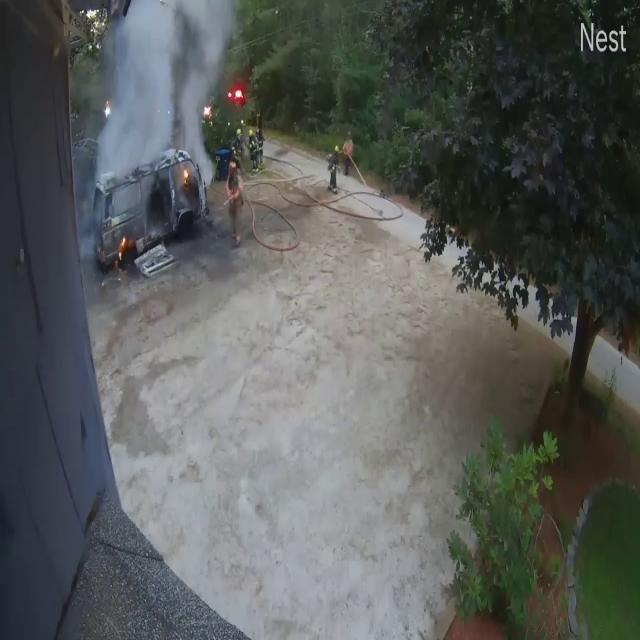Smoke: (93, 1, 239, 194)
